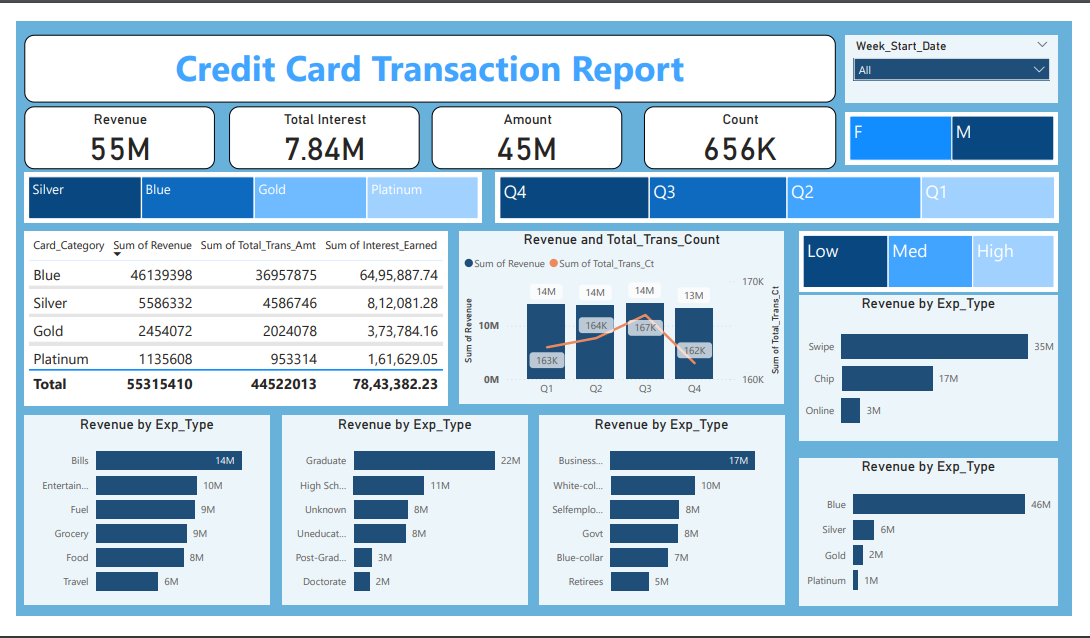

The page's visual inventory and layout, read from the dashboard file:
{"tool":"powerbi","page":{"name":"Credit Card Transaction Report","canvas":[1280,720],"ordinal":1},"visuals":[{"type":"textbox","box":[9.7,15.2,983.5,81.7],"z":0},{"type":"lineStackedColumnComboChart","title":"Revenue and Total_Trans_Count ","fields":{"Category":["cc_detail.Qtr"],"Y":["Sum(cc_detail.Revenue)"],"Y2":["Sum(cc_detail.Total_Trans_Ct)"]},"box":[537.5,253.5,393.4,209.2],"z":1000},{"type":"barChart","title":"Revenue by Exp_Type","fields":{"Y":["Sum(cc_detail.Revenue)"],"Category":["cc_detail.Exp_Type"]},"box":[9.7,476.5,297.8,230],"z":2000},{"type":"barChart","title":"Revenue by Exp_Type","fields":{"Y":["Sum(cc_detail.Revenue)"],"Category":["cust_detail.Education_Level"]},"box":[321.4,476.5,297.8,230],"z":3000},{"type":"barChart","title":"Revenue by Exp_Type","fields":{"Y":["Sum(cc_detail.Revenue)"],"Category":["cust_detail.Customer_Job"]},"box":[633.1,476.5,297.8,230],"z":4000},{"type":"barChart","title":"Revenue by Exp_Type","fields":{"Y":["Sum(cc_detail.Revenue)"],"Category":["cc_detail.Card_Category"]},"box":[948.9,527.8,314.5,178.7],"z":5000},{"type":"barChart","title":"Revenue by Exp_Type","fields":{"Y":["Sum(cc_detail.Revenue)"],"Category":["cc_detail.Use_Chip"]},"box":[948.9,331.1,314.5,175.9],"z":6000},{"type":"tableEx","fields":{"Values":["cc_detail.Card_Category","Sum(cc_detail.Revenue)","Sum(cc_detail.Total_Trans_Amt)","Sum(cc_detail.Interest_Earned)"]},"box":[9.7,253.5,513.9,210.6],"z":7000},{"type":"card","title":"Revenue","fields":{"Values":["Sum(cc_detail.Revenue)"]},"box":[9.7,102.5,231.3,76.2],"z":8000},{"type":"card","title":"Total Interest","fields":{"Values":["Sum(cc_detail.Interest_Earned)"]},"box":[257.7,102.5,231.3,76.2],"z":9000},{"type":"card","title":"Amount","fields":{"Values":["Sum(cc_detail.Total_Trans_Amt)"]},"box":[502.9,102.5,231.3,76.2],"z":10000},{"type":"card","title":"Count","fields":{"Values":["Sum(cc_detail.Total_Trans_Ct)"]},"box":[760.5,102.5,232.7,76.2],"z":11000},{"type":"slicer","fields":{"Values":["cc_detail.Week_Start_Date"]},"box":[1005.7,15.2,257.7,81.7],"z":12000},{"type":"treemap","fields":{"Group":["cc_detail.Qtr"],"Values":["Avg(cc_detail.Client_Num)"]},"box":[580.4,182.9,682.9,61],"z":13000},{"type":"treemap","fields":{"Values":["Avg(cc_detail.Client_Num)"],"Group":["cust_detail.Gender"]},"box":[1005.7,109.4,257.7,63.7],"z":14000},{"type":"treemap","fields":{"Values":["Avg(cc_detail.Client_Num)"],"Group":["cc_detail.Card_Category"]},"box":[9.7,182.9,555.5,61],"z":15000},{"type":"treemap","fields":{"Values":["CountNonNull(cc_detail.Client_Num)"],"Group":["cust_detail.IncomeGroup"]},"box":[948.9,253.5,314.5,73.4],"z":16000}]}

Visuals, with their boxes in screenshot pixels (x1, y1, x2, y2):
textbox: [left=14, top=33, right=840, bottom=101]
"Revenue and Total_Trans_Count " lineStackedColumnComboChart: [left=457, top=233, right=787, bottom=408]
"Revenue by Exp_Type" barChart: [left=14, top=420, right=264, bottom=613]
"Revenue by Exp_Type" barChart: [left=276, top=420, right=526, bottom=613]
"Revenue by Exp_Type" barChart: [left=537, top=420, right=787, bottom=613]
"Revenue by Exp_Type" barChart: [left=803, top=463, right=1067, bottom=613]
"Revenue by Exp_Type" barChart: [left=803, top=298, right=1067, bottom=446]
tableEx - cc_detail.Card_Category x Sum(cc_detail.Revenue): [left=14, top=233, right=445, bottom=410]
"Revenue" card: [left=14, top=106, right=208, bottom=170]
"Total Interest" card: [left=222, top=106, right=416, bottom=170]
"Amount" card: [left=428, top=106, right=622, bottom=170]
"Count" card: [left=644, top=106, right=840, bottom=170]
slicer - cc_detail.Week_Start_Date: [left=850, top=33, right=1067, bottom=101]
treemap - cc_detail.Qtr x Avg(cc_detail.Client_Num): [left=493, top=173, right=1067, bottom=225]
treemap - Avg(cc_detail.Client_Num) x cust_detail.Gender: [left=850, top=112, right=1067, bottom=165]
treemap - Avg(cc_detail.Client_Num) x cc_detail.Card_Category: [left=14, top=173, right=480, bottom=225]
treemap - CountNonNull(cc_detail.Client_Num) x cust_detail.IncomeGroup: [left=803, top=233, right=1067, bottom=294]
